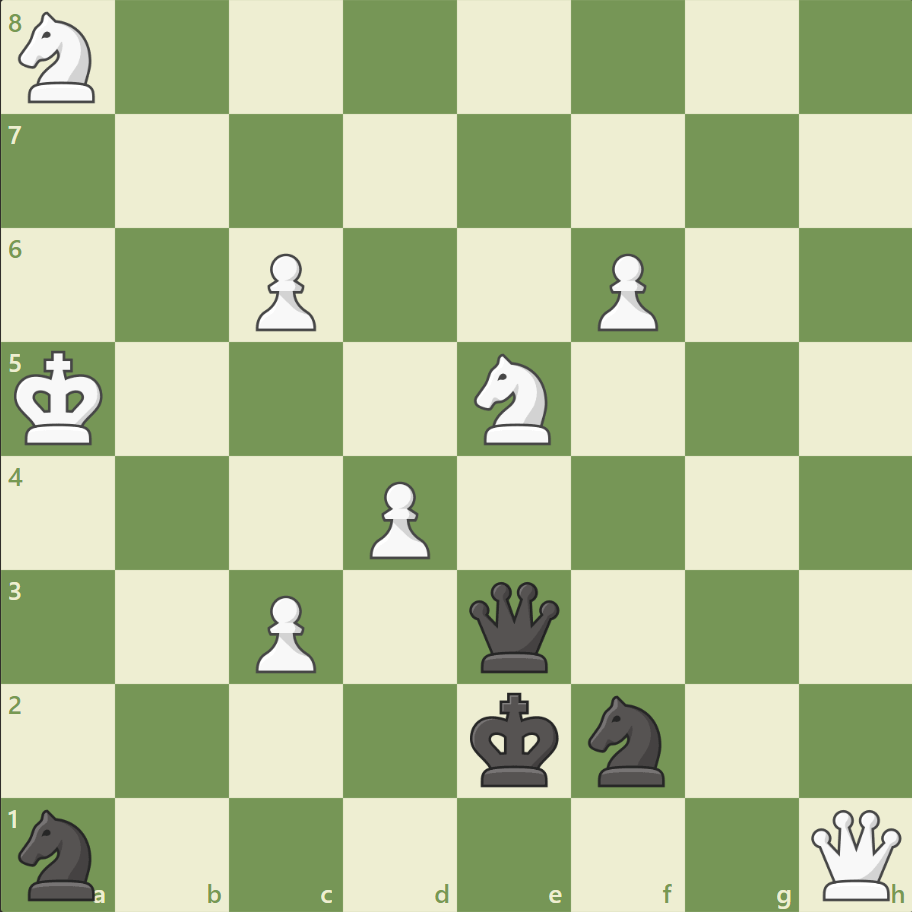K: (11, 344, 111, 452)
N: (11, 7, 108, 110), (465, 348, 562, 450)
P: (247, 246, 322, 337), (247, 586, 322, 677), (588, 246, 662, 337), (361, 473, 435, 564)
Q: (805, 804, 904, 903)
k: (465, 685, 565, 793)
n: (579, 688, 676, 791), (11, 802, 108, 904)
q: (464, 576, 563, 676)
